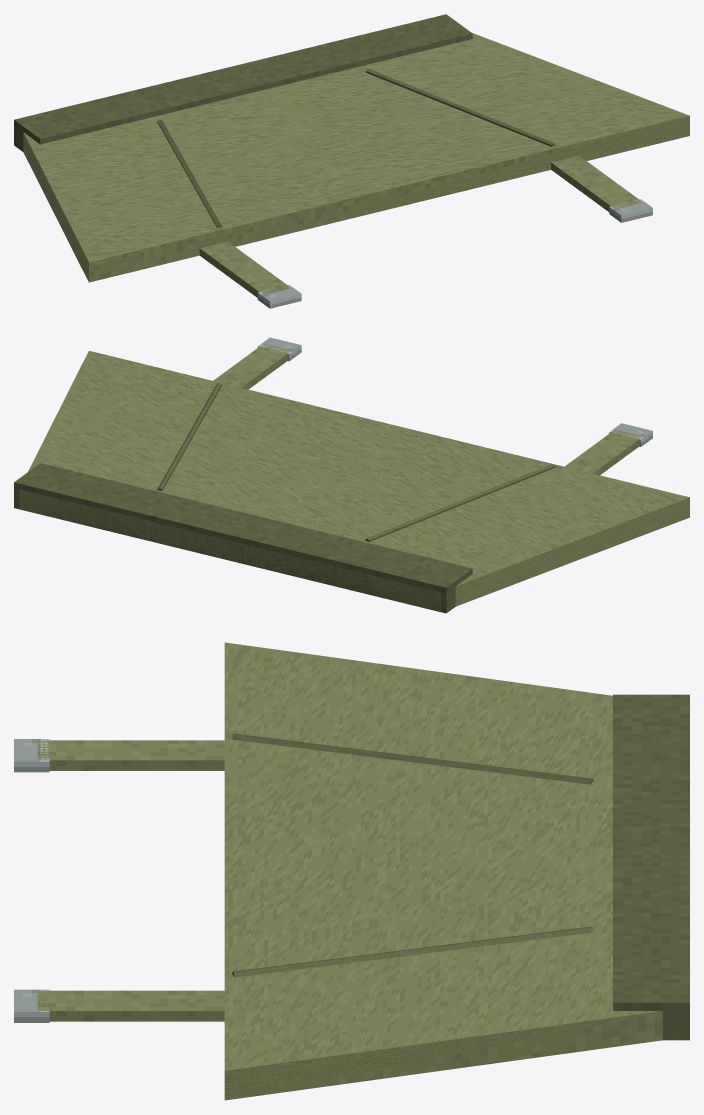
Rendered from garter_belt.glb.
3 views of the same model, one above another, from view 1: azimuth 30°, elevation 25°; view 2: azimuth 150°, elevation 25°; view 3: azimuth 270°, elevation 25° (orthographic). The views are drawn at different scales.
Visible parts, largest first — view 1: block_pleated panel, block_waistband, block_garter ribbon -1, block_garter ribbon 1, block_pleat 1 0, block_pleat -1 0, block_metal clasp 1, block_metal clasp -1; view 2: block_pleated panel, block_waistband, block_garter ribbon -1, block_garter ribbon 1, block_pleat -1 0, block_pleat 1 0, block_metal clasp 1, block_metal clasp -1; view 3: block_pleated panel, block_waistband, block_garter ribbon 1, block_garter ribbon -1, block_pleat 1 0, block_pleat -1 0, block_metal clasp -1, block_metal clasp 1.
Boxes of the visible parts, x1,y1,x2,y2 form: block_pleated panel: (23,33,689,282); block_waistband: (14,14,472,151); block_garter ribbon -1: (199,241,291,297); block_garter ribbon 1: (551,155,642,211); block_pleat 1 0: (365,68,555,146); block_pleat -1 0: (157,119,222,227); block_metal clasp 1: (609,199,652,222); block_metal clasp -1: (257,285,301,308); block_pleated panel: (19,350,689,611); block_waistband: (14,463,472,613); block_garter ribbon -1: (565,429,642,475); block_garter ribbon 1: (213,344,290,389); block_pleat -1 0: (365,464,555,541); block_pleat 1 0: (157,382,221,490); block_metal clasp 1: (257,337,301,361); block_metal clasp -1: (609,423,652,446); block_pleated panel: (224,642,662,1100); block_waistband: (613,694,689,1040); block_garter ribbon 1: (37,990,224,1021); block_garter ribbon -1: (37,740,224,770); block_pleat 1 0: (232,926,593,977); block_pleat -1 0: (232,733,593,784); block_metal clasp -1: (14,739,49,772); block_metal clasp 1: (14,989,49,1022).
Size of the model in its own units: 0.342 by 0.014 by 0.228.
1 material, 1 textured.
